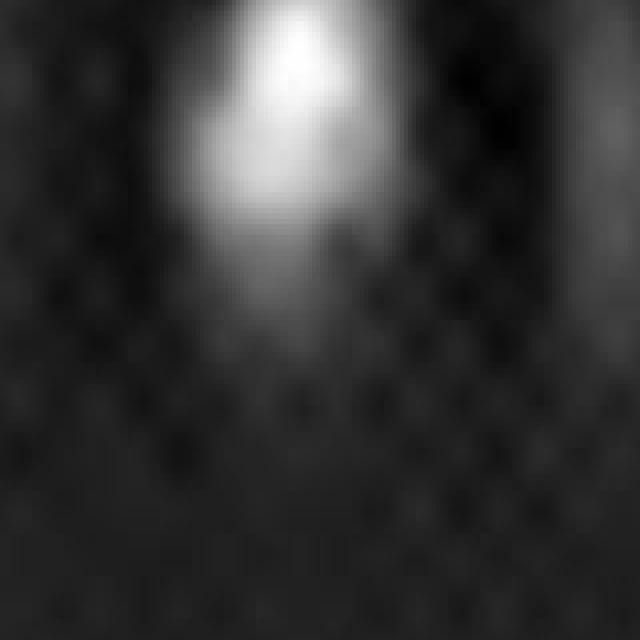person: (193, 1, 417, 342), (545, 1, 640, 380)
